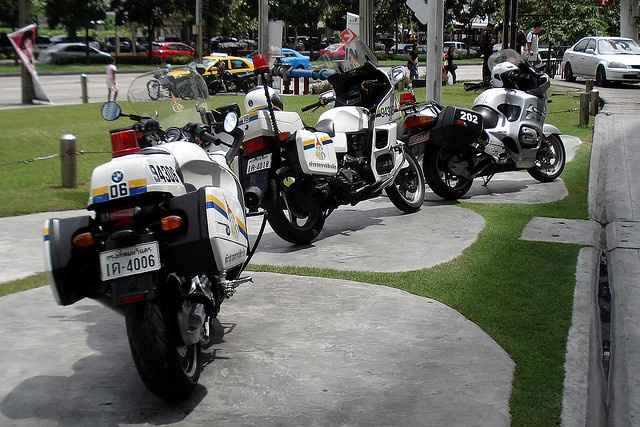non-vehicle: (42, 64, 251, 405), (238, 63, 429, 246), (400, 50, 568, 197)
